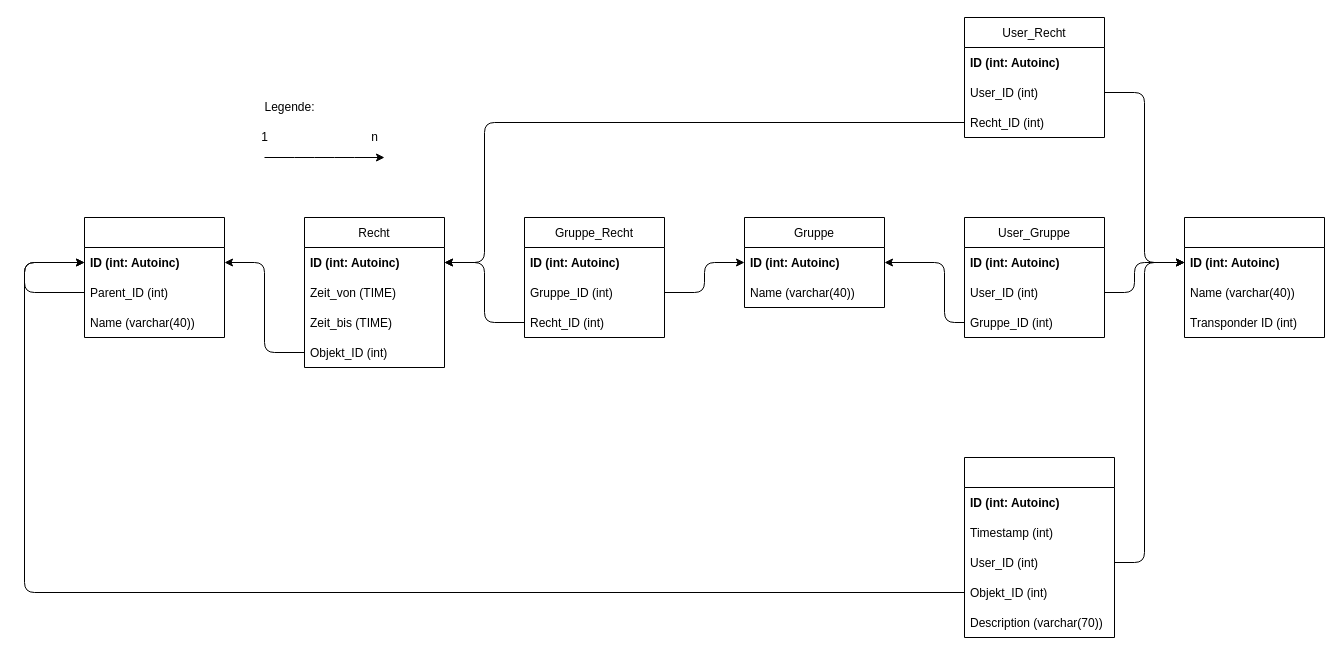
This 1342x655 diagram has some shape labels left out. The shapes that lost their labels are listed below. From the top down, each one's box as (x1, y1, x2, y2) in pixels, then its label:
(84, 216, 224, 338): Objekte
(1184, 216, 1324, 338): User
(964, 456, 1114, 638): Logs
